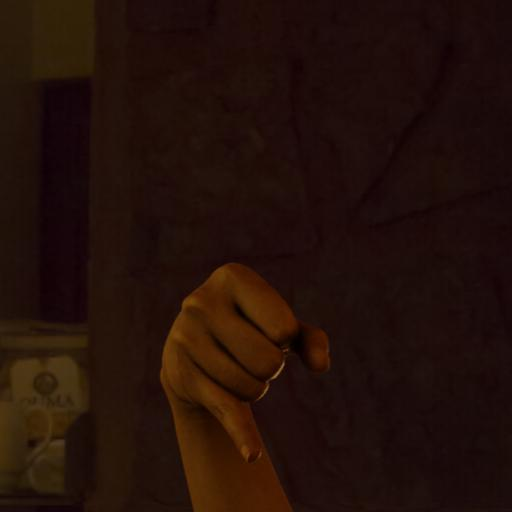J: (124, 239, 351, 476)
